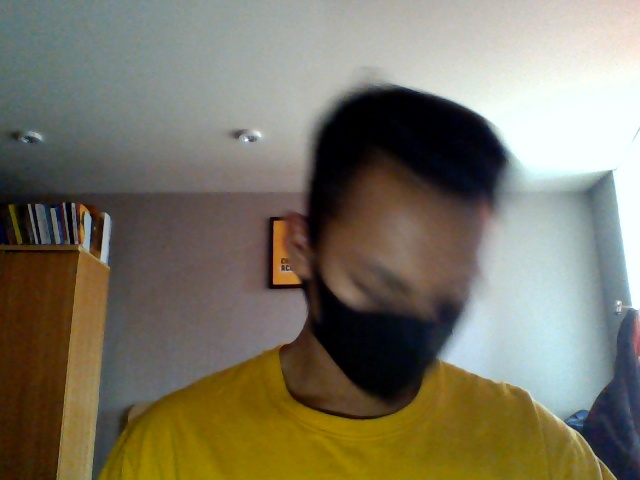mask: (305, 293, 456, 405)
